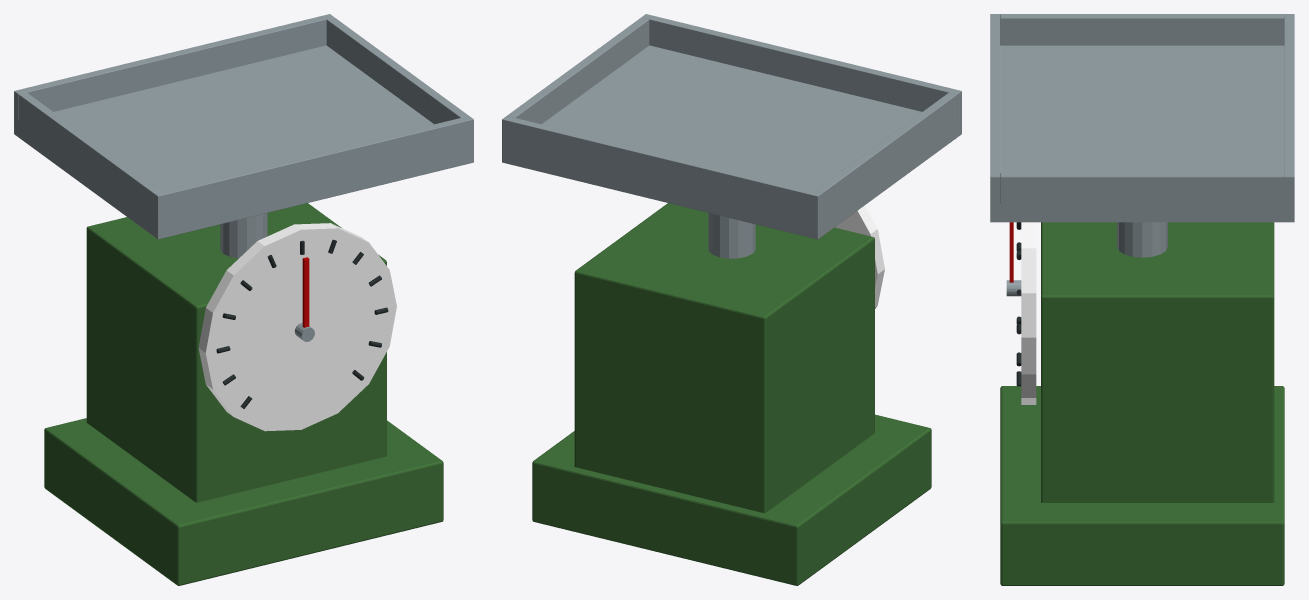
File: local-wet-market-weighing-scale.glb
3 views of the same model, side by side, from view 1: azimuth 30°, elevation 25°; view 2: azimuth 150°, elevation 25°; view 3: azimuth 270°, elevation 25° (orthographic). The views are drawn at different scales.
Parts seen in each view (by area): view 1: Housing, Platform, Base, Dial, Pan_Lip, Pan_Lip.001, Pan_Lip.002, Pan_Lip.003, Spring_Column; view 2: Housing, Platform, Base, Pan_Lip.001, Pan_Lip, Pan_Lip.002, Pan_Lip.003, Spring_Column, Dial; view 3: Housing, Platform, Base, Pan_Lip.003, Pan_Lip.002, Dial, Pan_Lip, Pan_Lip.001, Spring_Column.
Part boxes in pixels (x1=…): Housing: x1=86, y1=203, x2=386, y2=502; Platform: x1=14, y1=45, x2=473, y2=239; Base: x1=44, y1=418, x2=443, y2=585; Dial: x1=198, y1=223, x2=396, y2=431; Pan_Lip: x1=153, y1=116, x2=473, y2=230; Pan_Lip.001: x1=14, y1=14, x2=334, y2=127; Pan_Lip.002: x1=19, y1=92, x2=160, y2=226; Pan_Lip.003: x1=326, y1=17, x2=468, y2=124; Spring_Column: x1=220, y1=213, x2=267, y2=258; Housing: x1=574, y1=203, x2=874, y2=513; Platform: x1=502, y1=45, x2=961, y2=239; Base: x1=532, y1=414, x2=931, y2=585; Pan_Lip.001: x1=502, y1=116, x2=822, y2=230; Pan_Lip: x1=641, y1=14, x2=961, y2=127; Pan_Lip.002: x1=815, y1=92, x2=956, y2=226; Pan_Lip.003: x1=507, y1=17, x2=649, y2=124; Spring_Column: x1=708, y1=213, x2=755, y2=258; Dial: x1=835, y1=205, x2=884, y2=308; Housing: x1=1041, y1=222, x2=1274, y2=502; Platform: x1=990, y1=45, x2=1294, y2=222; Base: x1=1000, y1=386, x2=1284, y2=585; Pan_Lip.003: x1=1000, y1=172, x2=1284, y2=212; Pan_Lip.002: x1=1000, y1=14, x2=1284, y2=45; Dial: x1=1021, y1=222, x2=1036, y2=404; Pan_Lip: x1=990, y1=14, x2=1000, y2=212; Pan_Lip.001: x1=1284, y1=14, x2=1294, y2=212; Spring_Column: x1=1117, y1=222, x2=1167, y2=257.
Bounding box in the file's own units: 0.38 × 0.46 × 0.3.
